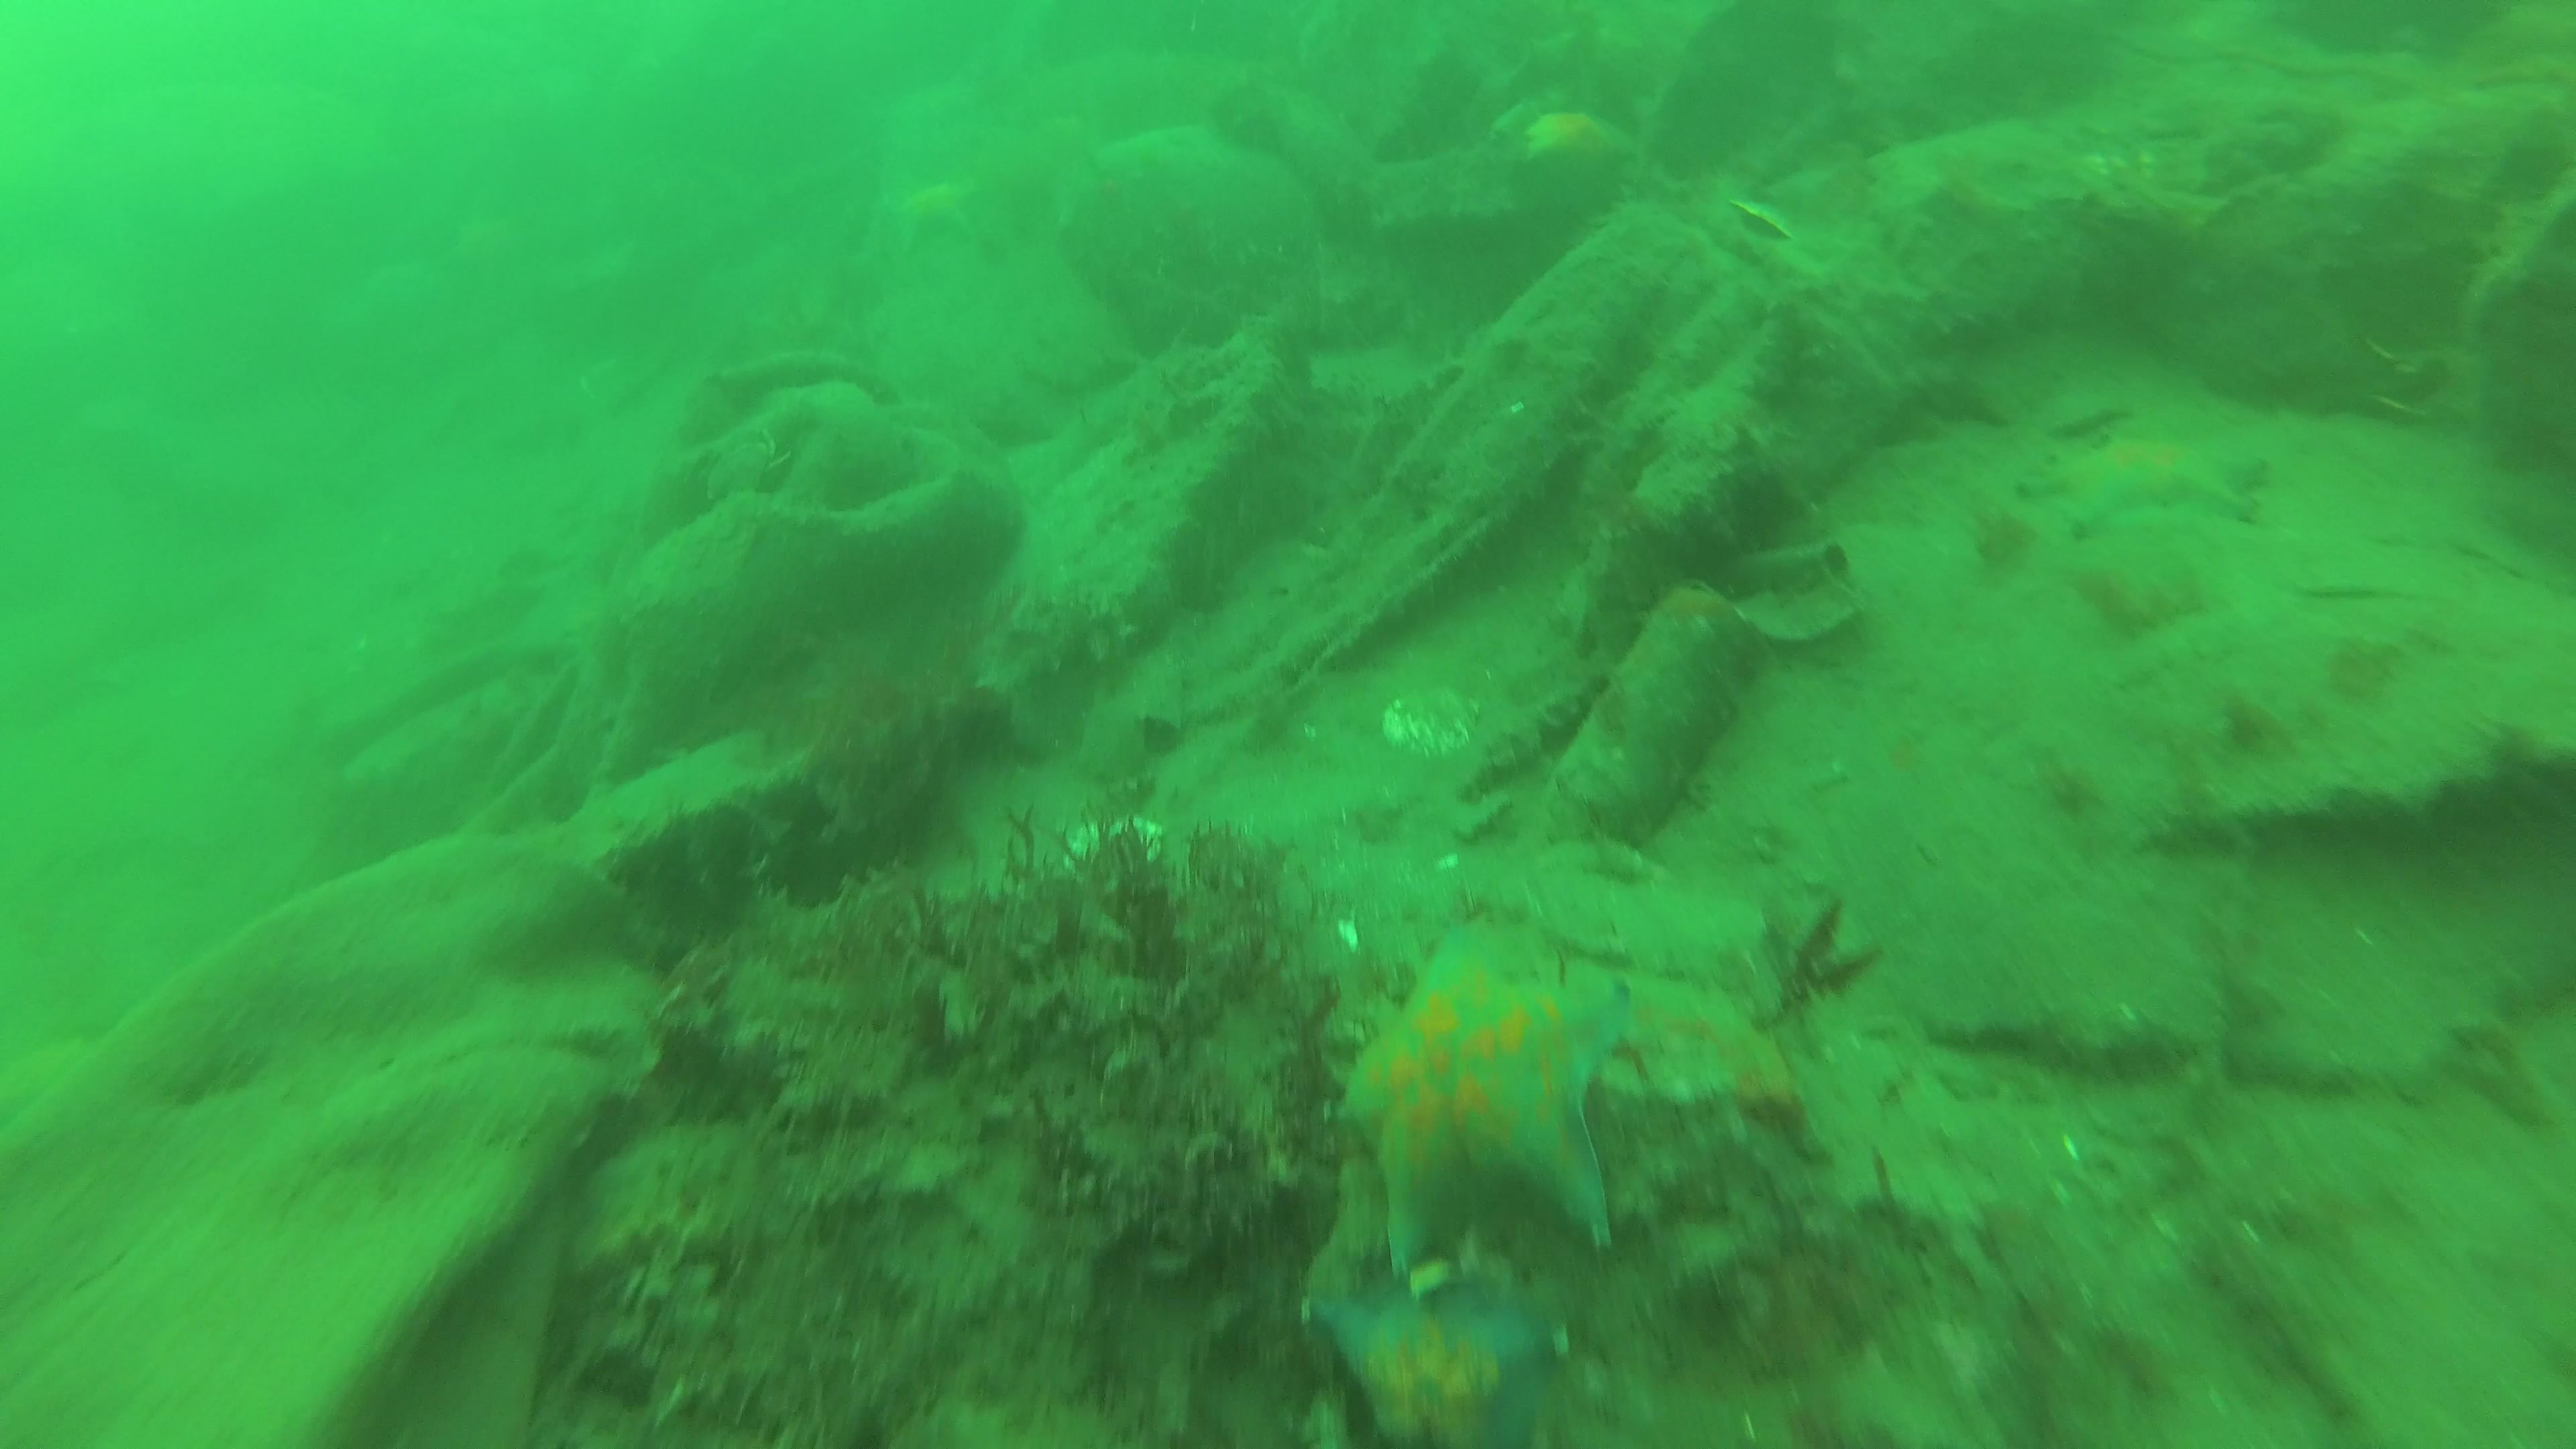scallop: (1366, 685, 1488, 757), (1718, 189, 1806, 244)
starfish: (1322, 918, 1631, 1299), (1288, 1265, 1596, 1449), (2005, 425, 2279, 536), (1493, 88, 1649, 196), (869, 168, 993, 253)
